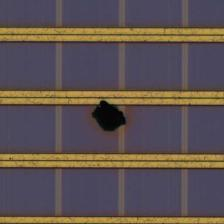PARTICLE: (92, 96, 131, 137)
